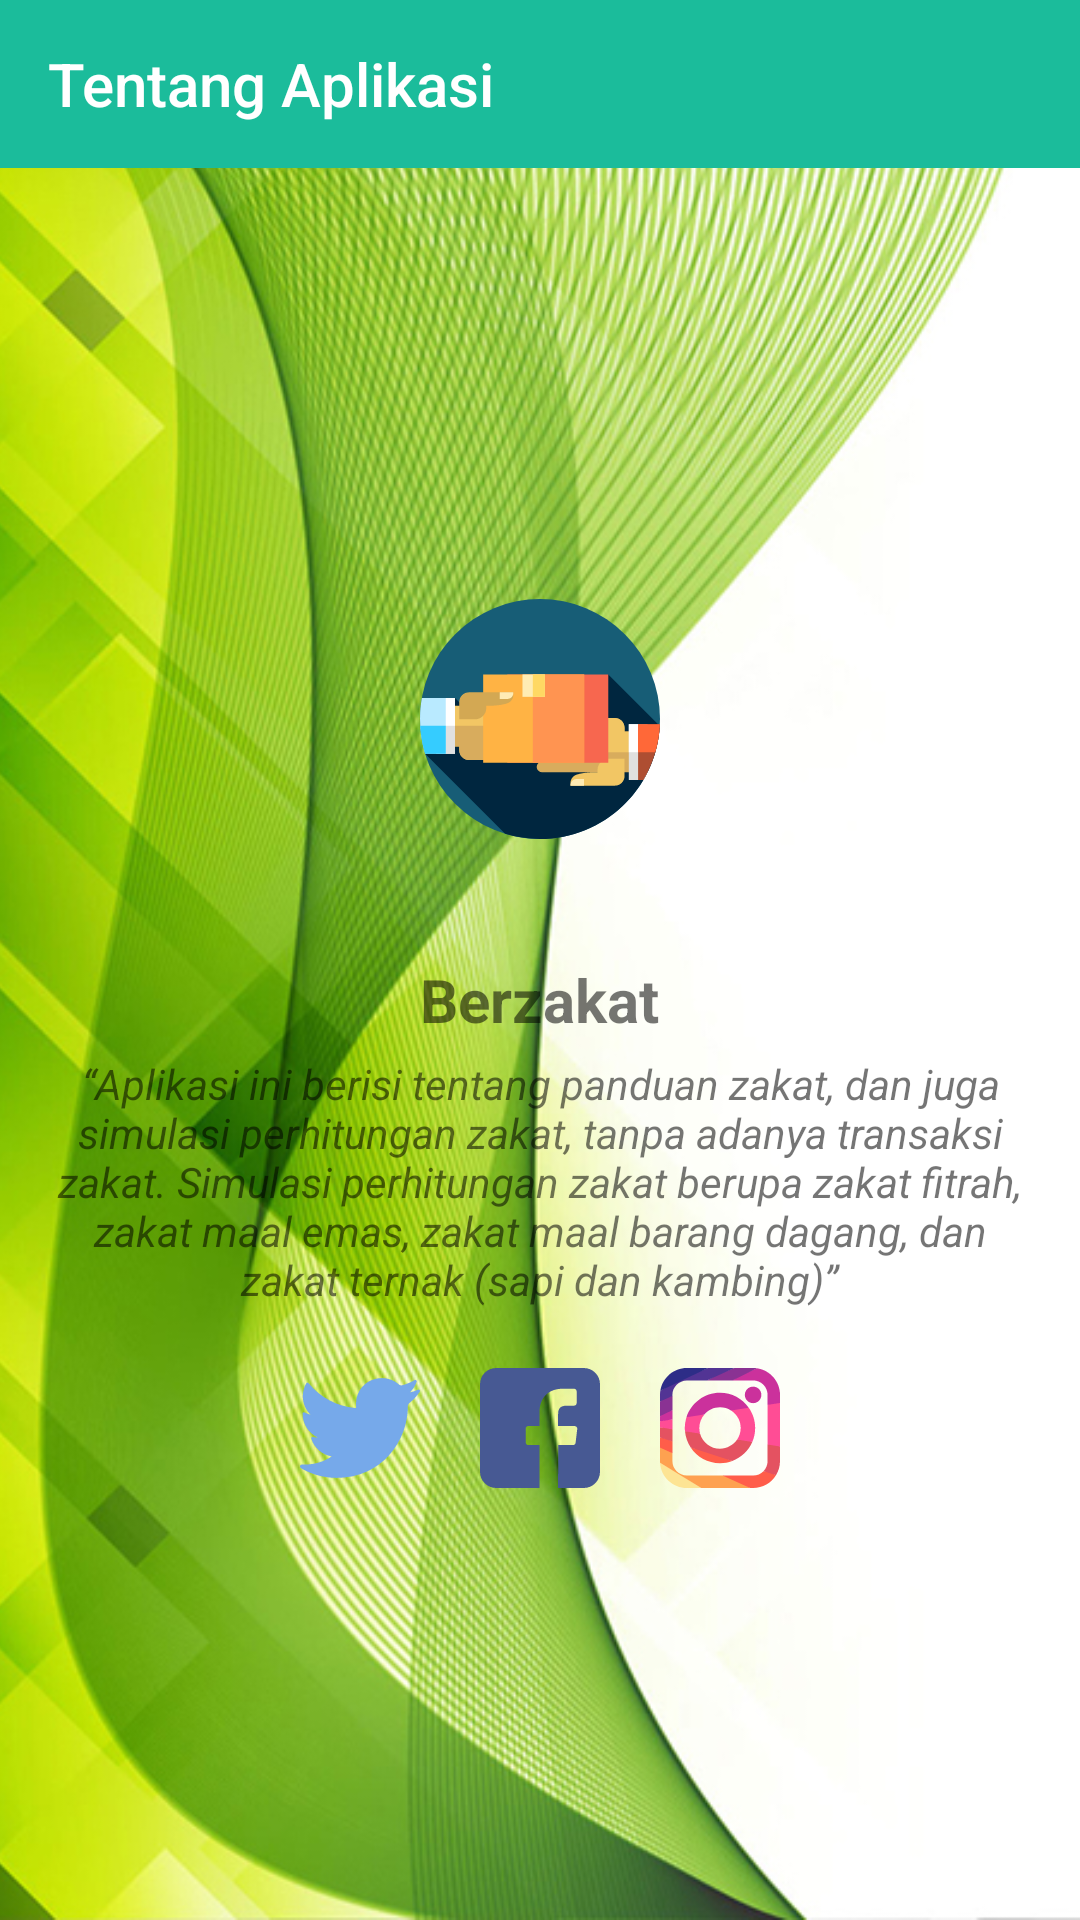

Where to tap for icons on this 1080×1920 app screen, as (x=x, y=y):
give: (x=540, y=719)
